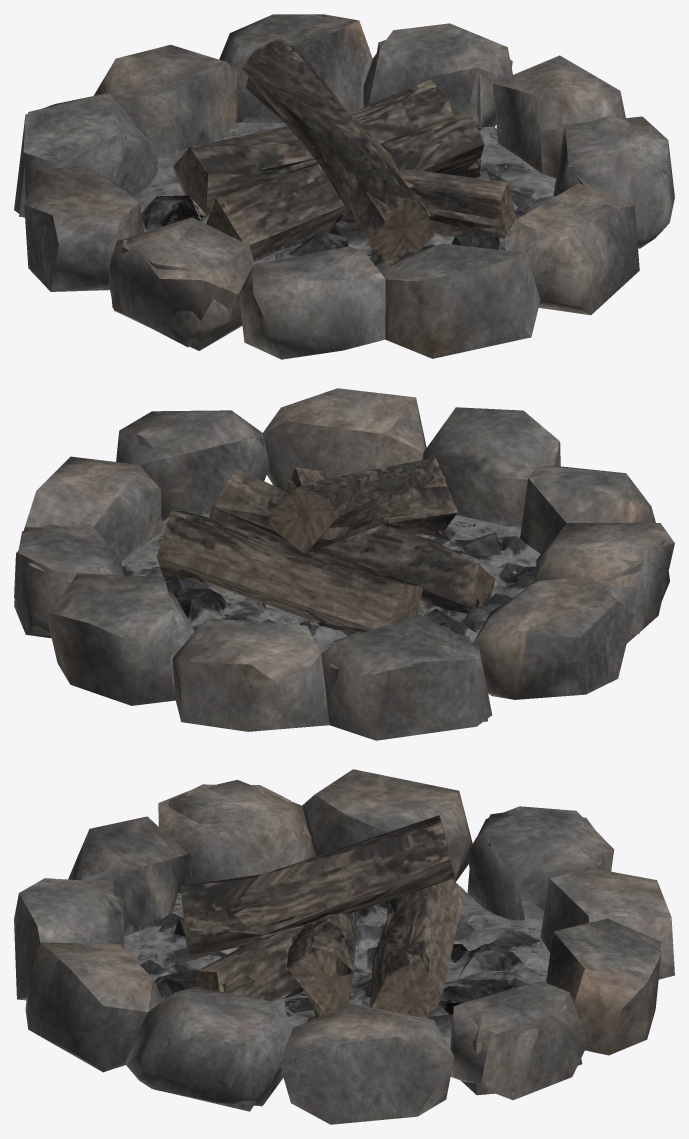
3 renders of one model, top to bottom at view 1: azimuth 30°, elevation 25°; view 2: azimuth 150°, elevation 25°; view 3: azimuth 270°, elevation 25°, orthographic.
Parts seen in each view (by area): view 1: stone-firepit.001; view 2: stone-firepit.001; view 3: stone-firepit.001.
Part boxes in pixels (bbox=[...]): stone-firepit.001: bbox=[14, 14, 674, 359]; stone-firepit.001: bbox=[14, 388, 674, 740]; stone-firepit.001: bbox=[14, 769, 674, 1124].
Bounding box in the file's own units: 1.6 × 0.4398 × 1.59.
1 material, 1 textured.
